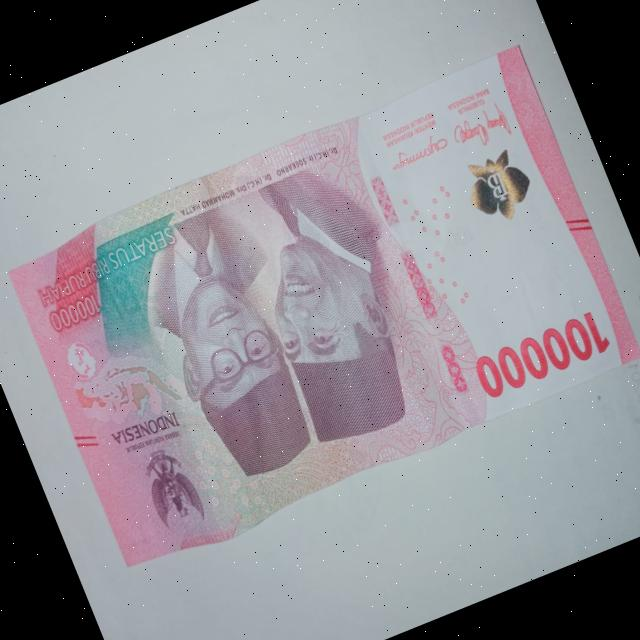100K: (0, 37, 640, 589)
